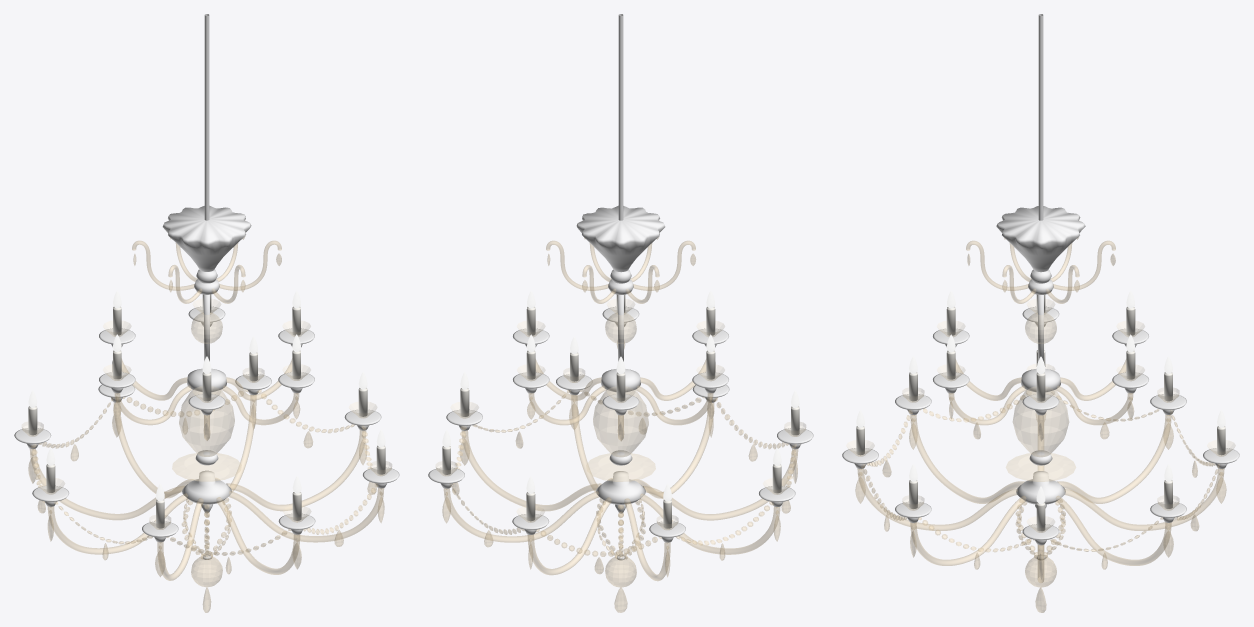
The model's file is chandelier.glb.
The picture shows the model from 3 angles, left to right: view 1: azimuth 30°, elevation 25°; view 2: azimuth 150°, elevation 25°; view 3: azimuth 270°, elevation 25°; orthographic projection.
Parts seen in each view (by area): view 1: Canopy, Urn, Disc, Arm.007, Rod, HubL, Arm.008, Arm.011, Arm.012, Arm.006, Arm.013, Arm.010 (+6 smaller); view 2: Canopy, Urn, Disc, Arm.009, Rod, HubL, Arm.008, Arm.013, Arm.012, Arm.010, Arm.011, Arm.006 (+6 smaller); view 3: Canopy, Urn, Disc, Arm.006, Arm.010, Rod, Arm.007, Arm.009, Arm.011, Arm.013, HubL, StemBallU (+4 smaller).
Part boxes in pixels (x1,y1,x2,y2): Canopy: [162, 205, 251, 271]; Urn: [179, 390, 234, 456]; Disc: [172, 453, 241, 481]; Arm.007: [229, 488, 383, 542]; Rod: [204, 14, 209, 220]; HubL: [182, 470, 231, 504]; Arm.008: [226, 430, 365, 510]; Arm.011: [30, 449, 184, 519]; Arm.012: [48, 493, 187, 554]; Arm.006: [216, 497, 299, 574]; Arm.013: [157, 498, 203, 580]; Arm.010: [114, 402, 194, 497]; Canopy: [576, 205, 665, 272]; Urn: [593, 390, 648, 456]; Disc: [586, 453, 655, 481]; Arm.009: [444, 488, 598, 542]; Rod: [618, 14, 623, 220]; HubL: [596, 471, 645, 504]; Arm.008: [462, 430, 601, 510]; Arm.013: [643, 449, 797, 520]; Arm.012: [640, 493, 779, 554]; Arm.010: [528, 497, 611, 574]; Arm.011: [624, 498, 670, 580]; Arm.006: [634, 403, 713, 498]; Canopy: [996, 206, 1085, 272]; Urn: [1013, 390, 1068, 456]; Disc: [1006, 453, 1075, 481]; Arm.006: [857, 468, 1017, 530]; Arm.010: [1064, 468, 1224, 530]; Rod: [1038, 14, 1043, 220]; Arm.007: [910, 496, 1025, 565]; Arm.009: [1056, 496, 1171, 565]; Arm.011: [1057, 415, 1171, 503]; Arm.013: [910, 415, 1024, 503]; HubL: [1016, 471, 1065, 504]; StemBallU: [1025, 312, 1056, 343].
Size of the model in its own units: 1.04 by 1.72 by 1.04.
